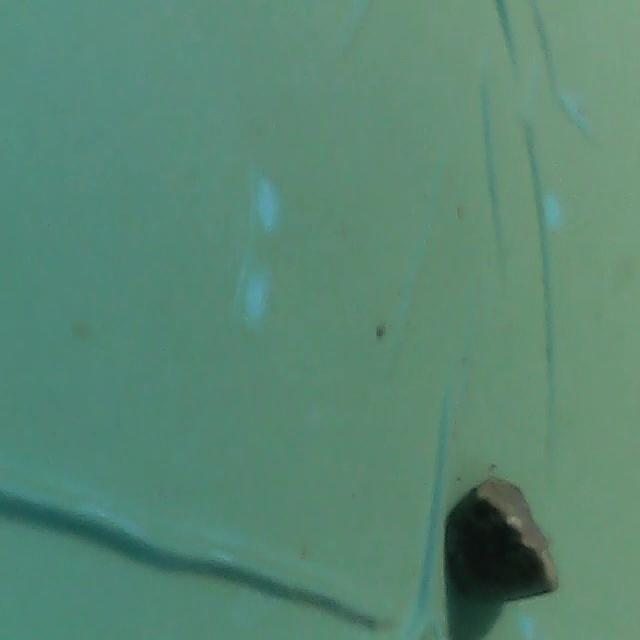rock: (442, 458, 564, 612)
